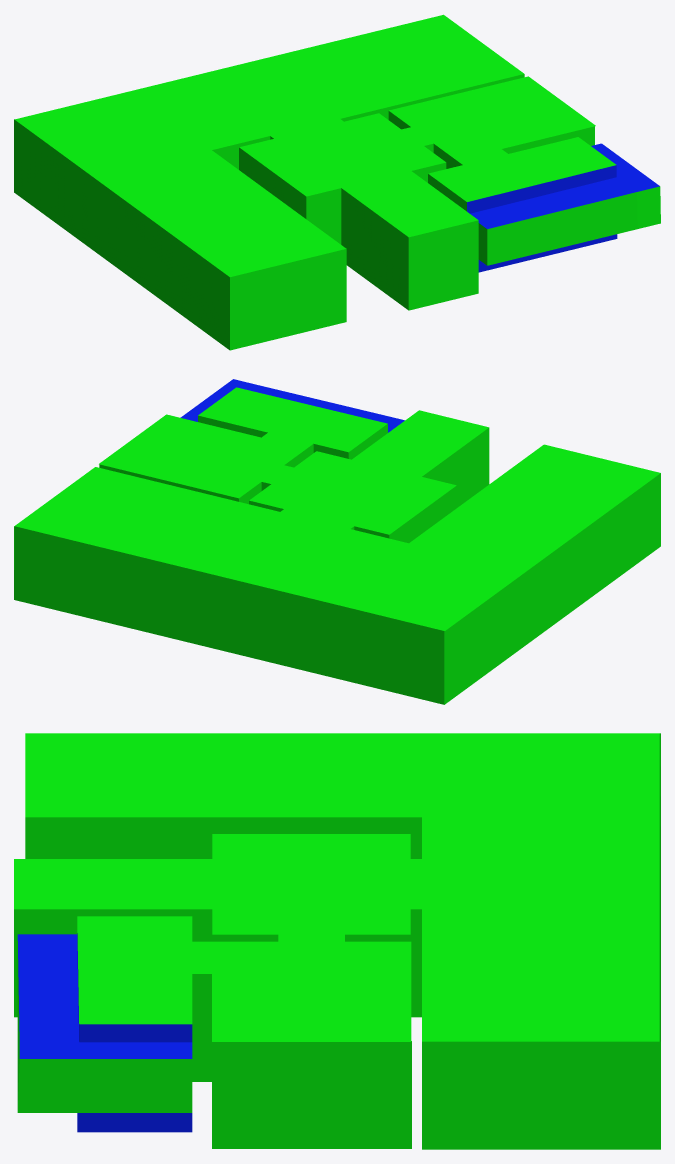
Rendered from building.glb.
3 views of the same model, one above another, from view 1: azimuth 30°, elevation 25°; view 2: azimuth 150°, elevation 25°; view 3: azimuth 270°, elevation 25° (orthographic). The views are drawn at different scales.
Parts seen in each view (by area): view 1: building -col; view 2: building -col; view 3: building -col.
Part boxes in pixels (x1,y1,x2,y2): building -col: (14, 14, 660, 350); building -col: (14, 379, 660, 704); building -col: (14, 733, 660, 1149).
Bounding box in the file's own units: 18.42 × 3 × 16.31.
